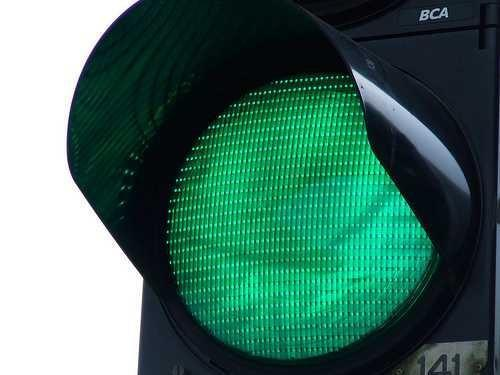red traffic light: (70, 0, 486, 375)
